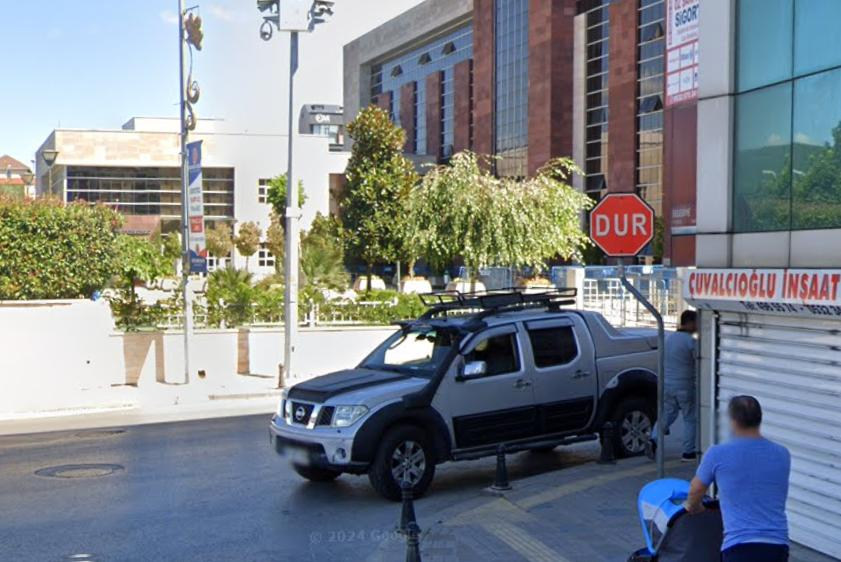stop: (590, 192, 657, 259)
